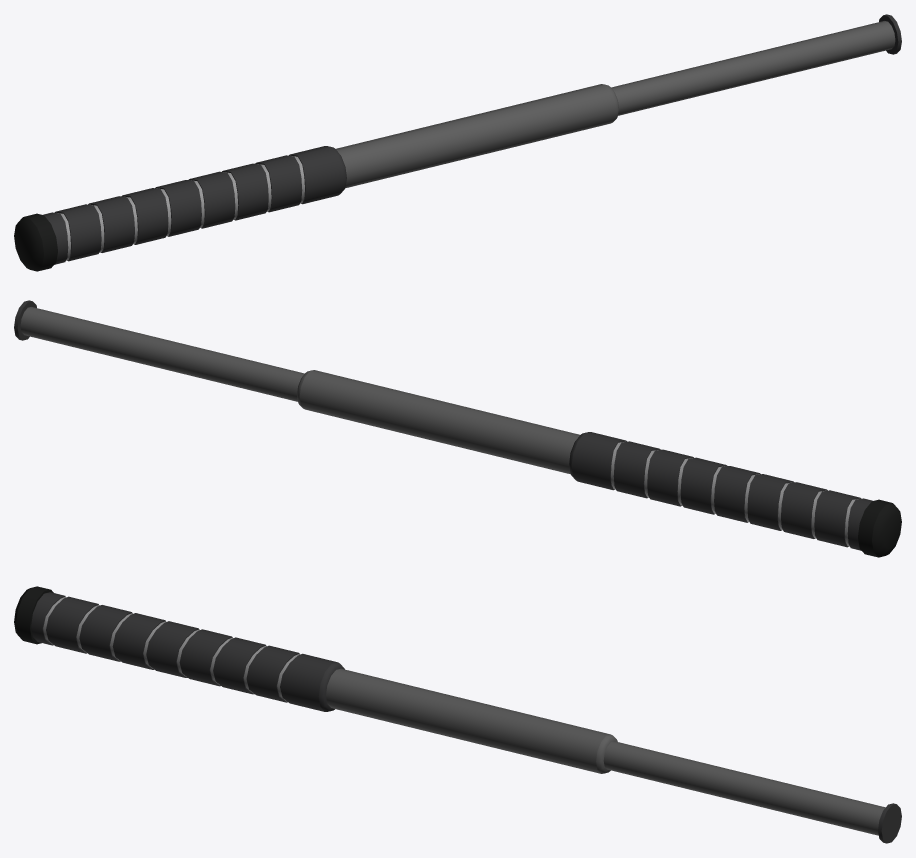
Rendered from Telescopic_Baton_Mesh.fbx.
3 views of the same model, one above another, from view 1: azimuth 30°, elevation 25°; view 2: azimuth 150°, elevation 25°; view 3: azimuth 330°, elevation 25° (orthographic).
Parts seen in each view (by area): view 1: Telescopic_Baton; view 2: Telescopic_Baton; view 3: Telescopic_Baton.
Part boxes in pixels (left/top/right/bottom): Telescopic_Baton: left=14, top=14, right=901, bottom=271; Telescopic_Baton: left=14, top=300, right=901, bottom=557; Telescopic_Baton: left=14, top=586, right=901, bottom=843.
Size of the model in its own units: 0.8446 by 0.0477 by 0.0477.
